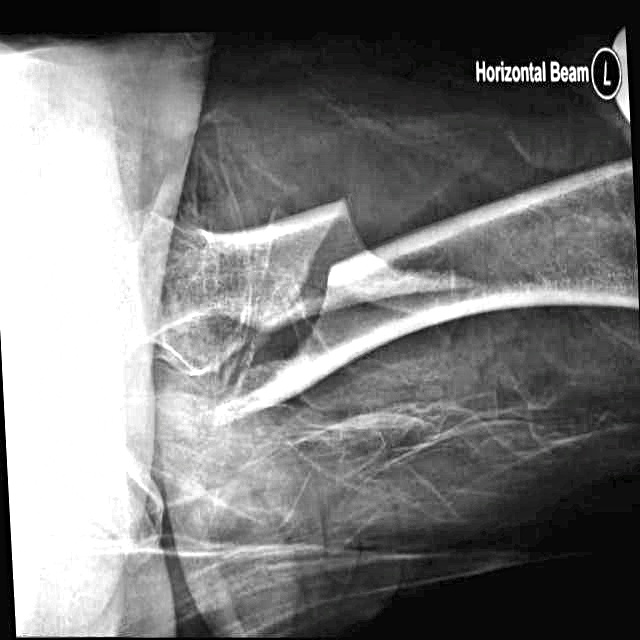Spiral: (196, 183, 457, 434)
